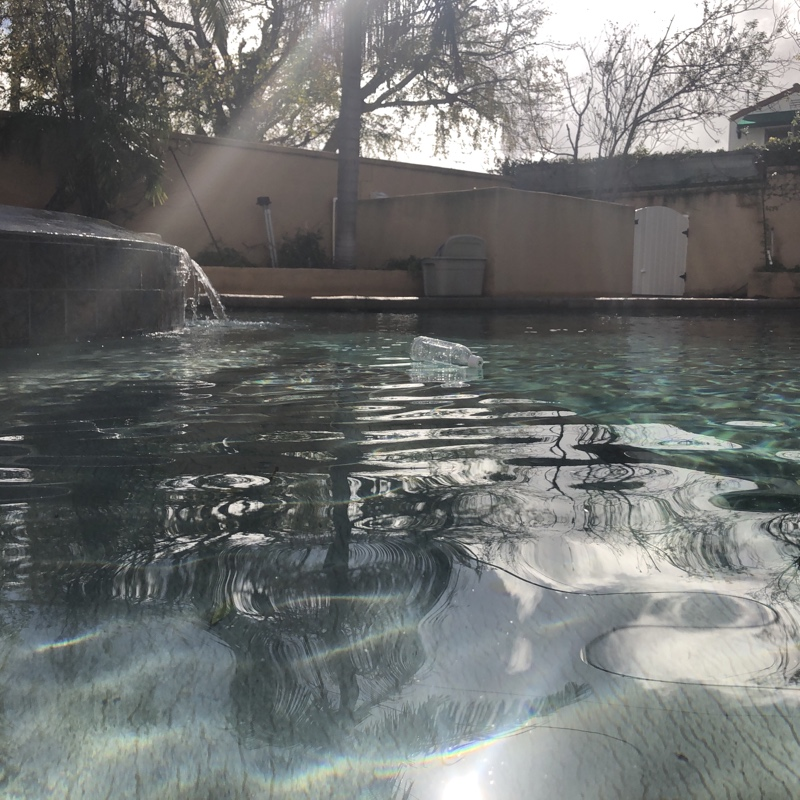Plastic Bottle: (407, 333, 487, 375)
